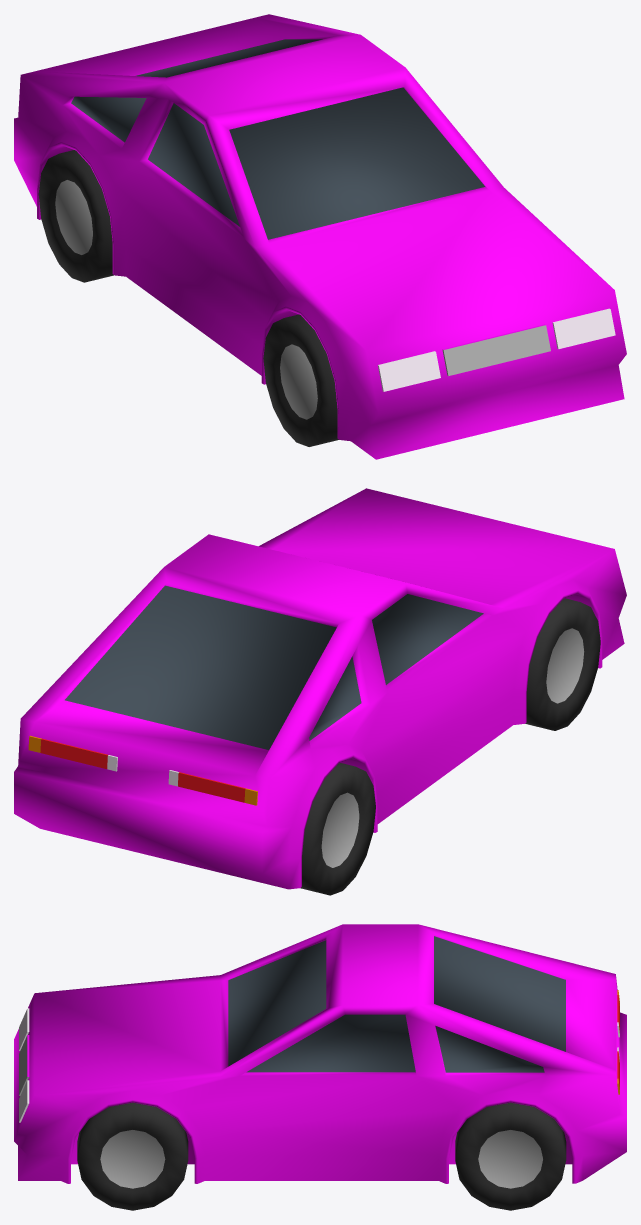
File: car.gltf
3 renders of one model, top to bottom at view 1: azimuth 30°, elevation 25°; view 2: azimuth 150°, elevation 25°; view 3: azimuth 270°, elevation 25°, orthographic. The views are drawn at different scales.
Visible parts, largest first — view 1: car-coupe; view 2: car-coupe; view 3: car-coupe.
Part boxes in pixels (x1=…): car-coupe: x1=14, y1=14, x2=626, y2=459; car-coupe: x1=14, y1=488, x2=626, y2=895; car-coupe: x1=14, y1=924, x2=626, y2=1210.
Bounding box in the file's own units: 1.71 × 1.36 × 3.97.
